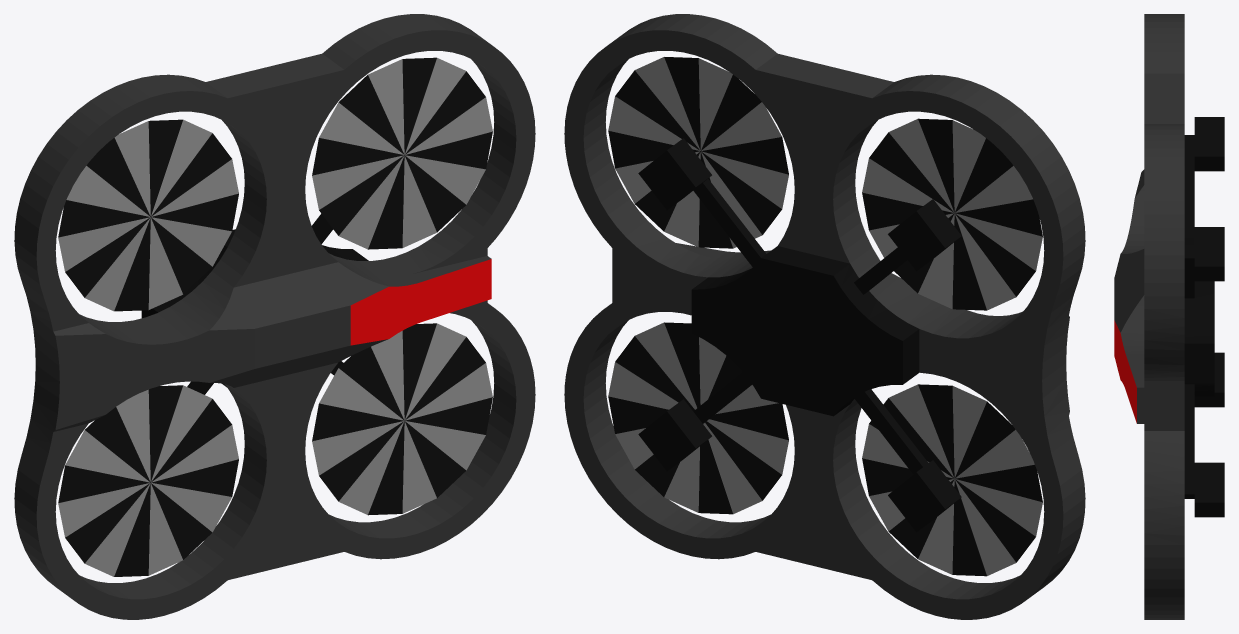
Rendered from quadrotor_CAD2.obj.
The picture shows the model from 3 angles, left to right: view 1: azimuth 30°, elevation 25°; view 2: azimuth 150°, elevation 25°; view 3: azimuth 270°, elevation 25°; orthographic projection. The views are drawn at different scales.
Visible parts, largest first — view 1: Cover; view 2: Cover; view 3: Cover.
Boxes of the visible parts, <box> form: Cover: <box>14,14,535,619</box>; Cover: <box>564,14,1085,619</box>; Cover: <box>1114,14,1224,619</box>.
Size of the model in its own units: 0.52 by 0.5199 by 0.11.
